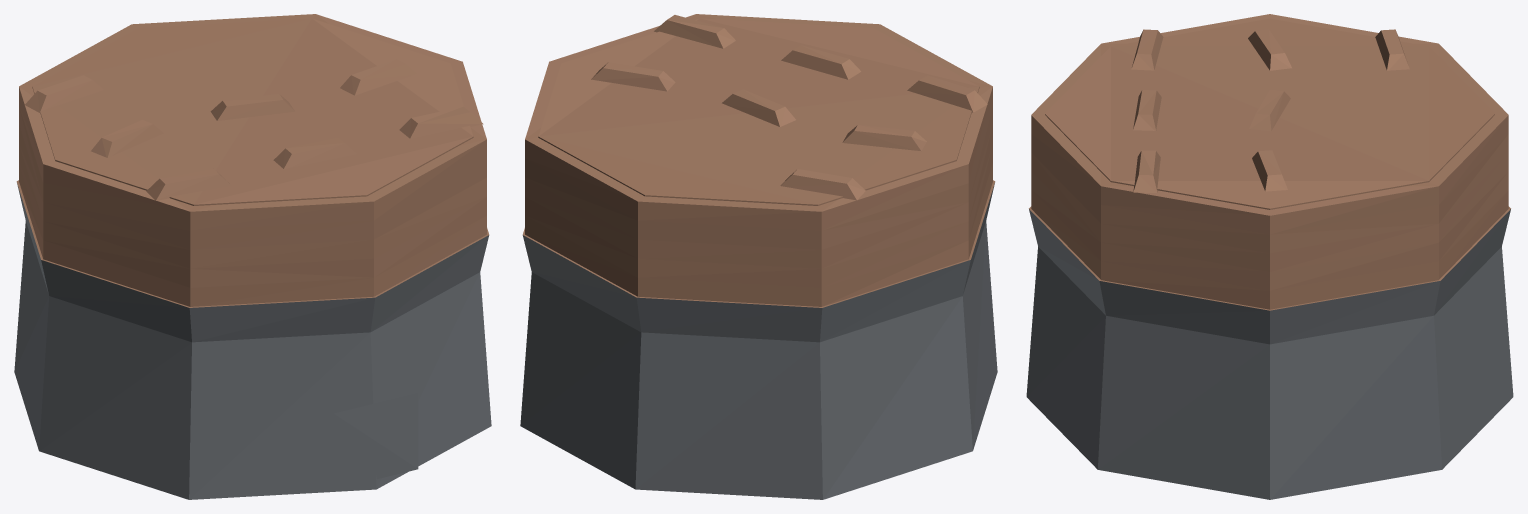
Rendered from fish-smoker-01.glb.
The picture shows the model from 3 angles, left to right: view 1: azimuth 30°, elevation 25°; view 2: azimuth 150°, elevation 25°; view 3: azimuth 270°, elevation 25°; orthographic projection.
Visible parts, largest first — view 1: fish_smoker_01; view 2: fish_smoker_01; view 3: fish_smoker_01.
Part boxes in pixels (<box>): fish_smoker_01: <box>14,14,491,499</box>; fish_smoker_01: <box>520,14,997,499</box>; fish_smoker_01: <box>1026,14,1513,499</box>.
Bounding box in the file's own units: 1.41 × 0.942 × 1.41.
